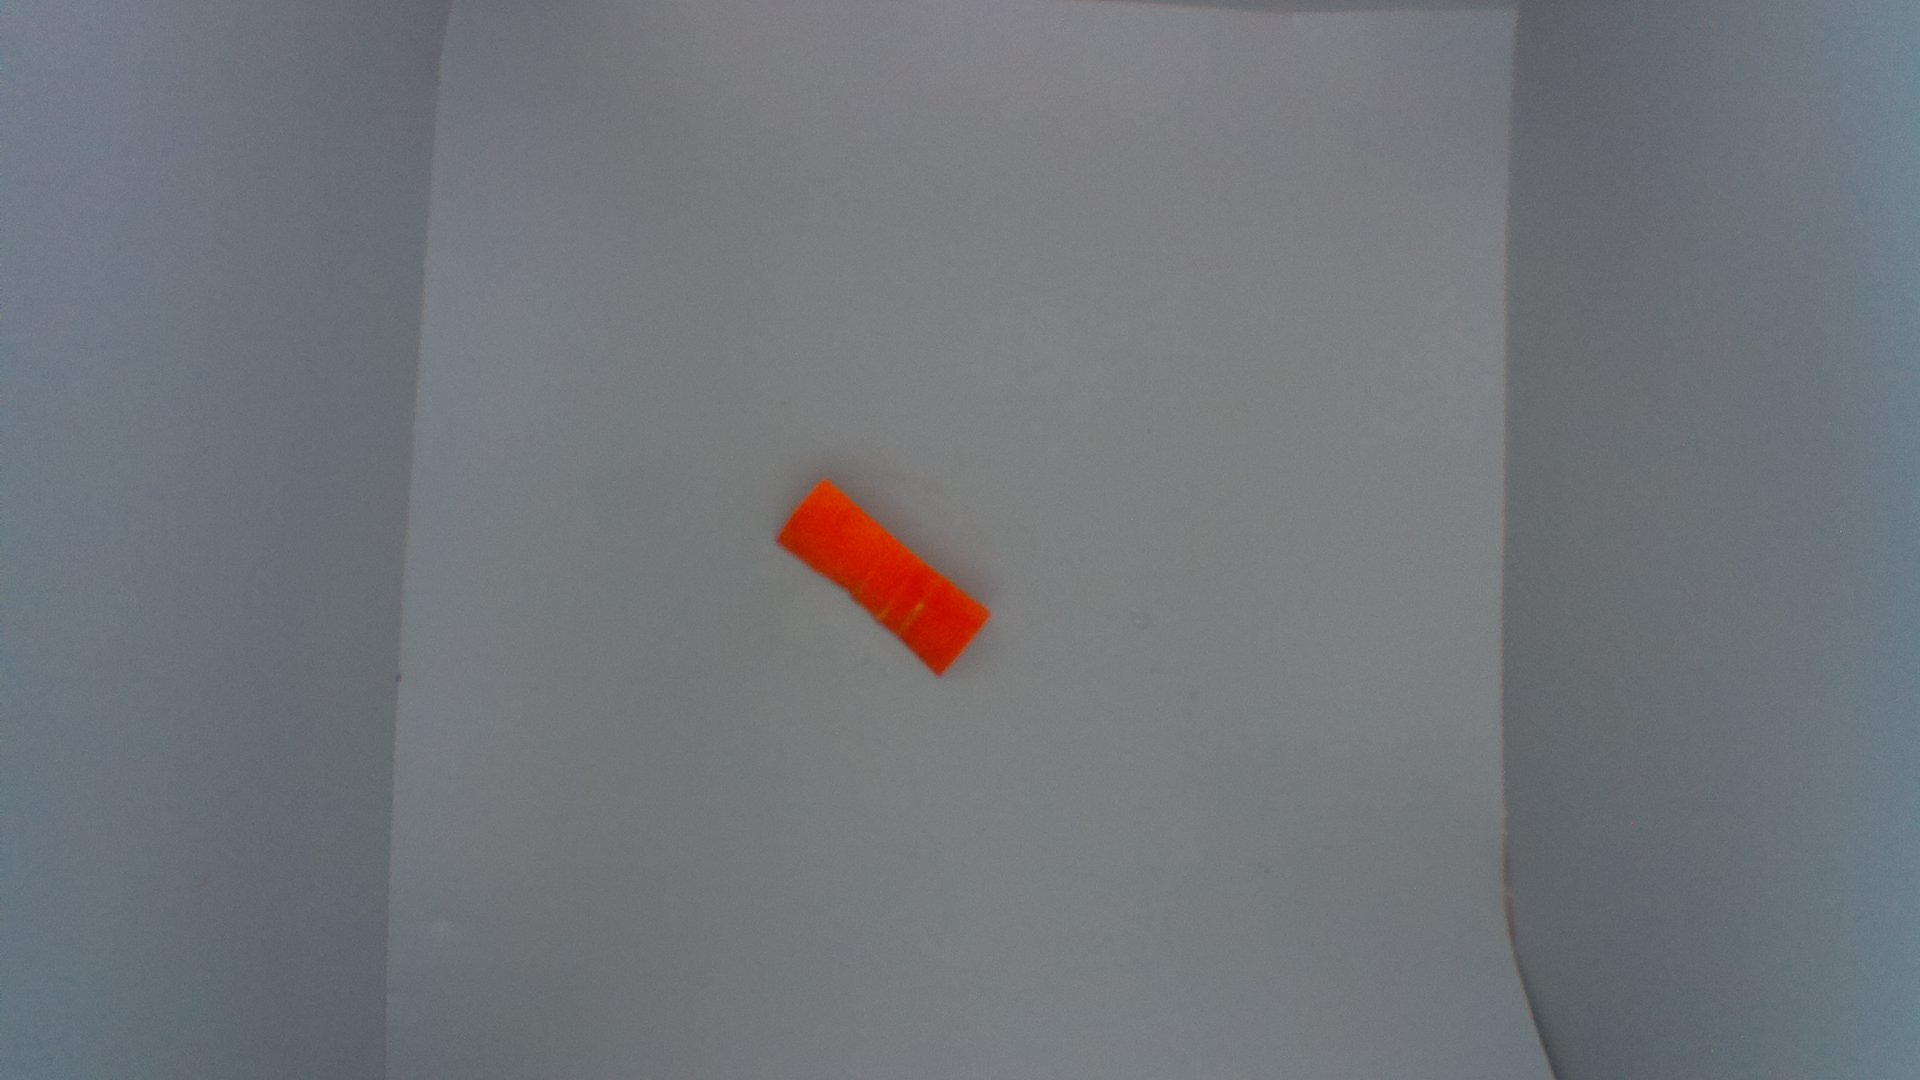carrot: (774, 476, 996, 683)
